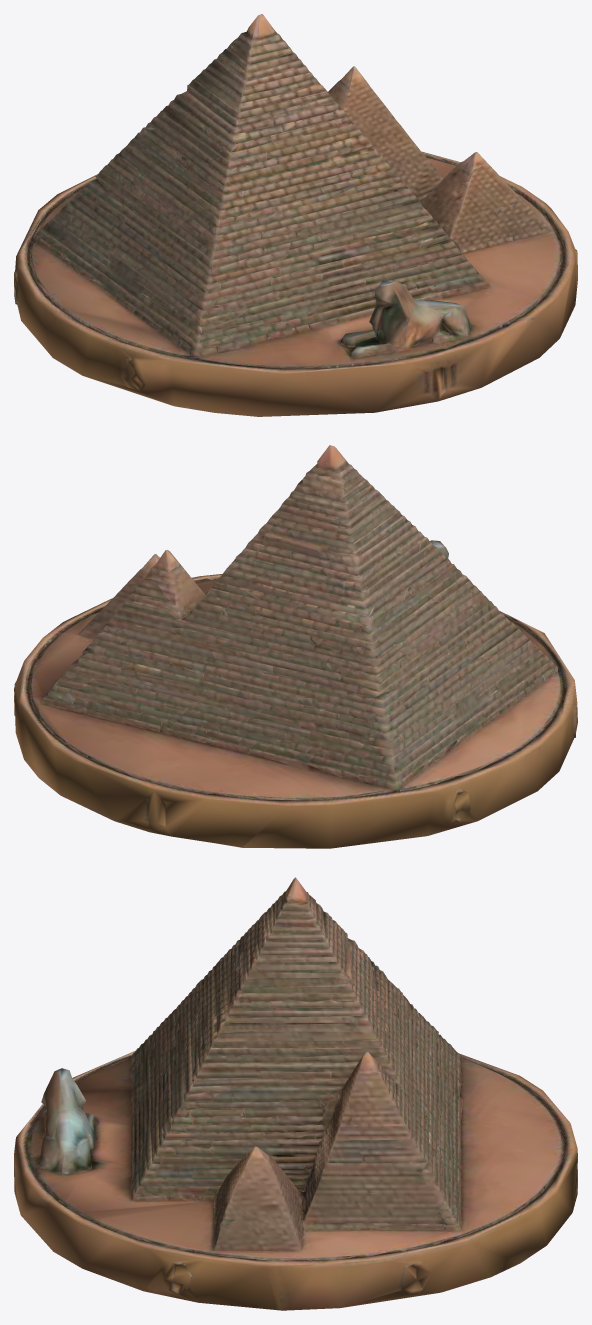
Rendered from pyramid_giza_diamond.glb.
3 renders of one model, top to bottom at view 1: azimuth 30°, elevation 25°; view 2: azimuth 150°, elevation 25°; view 3: azimuth 270°, elevation 25°, orthographic.
Visible parts, largest first — view 1: Mesh_0; view 2: Mesh_0; view 3: Mesh_0.
Part boxes in pixels (x1,y1,x2,y2): Mesh_0: (14,14,577,416); Mesh_0: (14,445,577,848); Mesh_0: (14,877,577,1310).
Bounding box in the file's own units: 1.91 × 1.11 × 1.91.
1 material, 1 textured.
